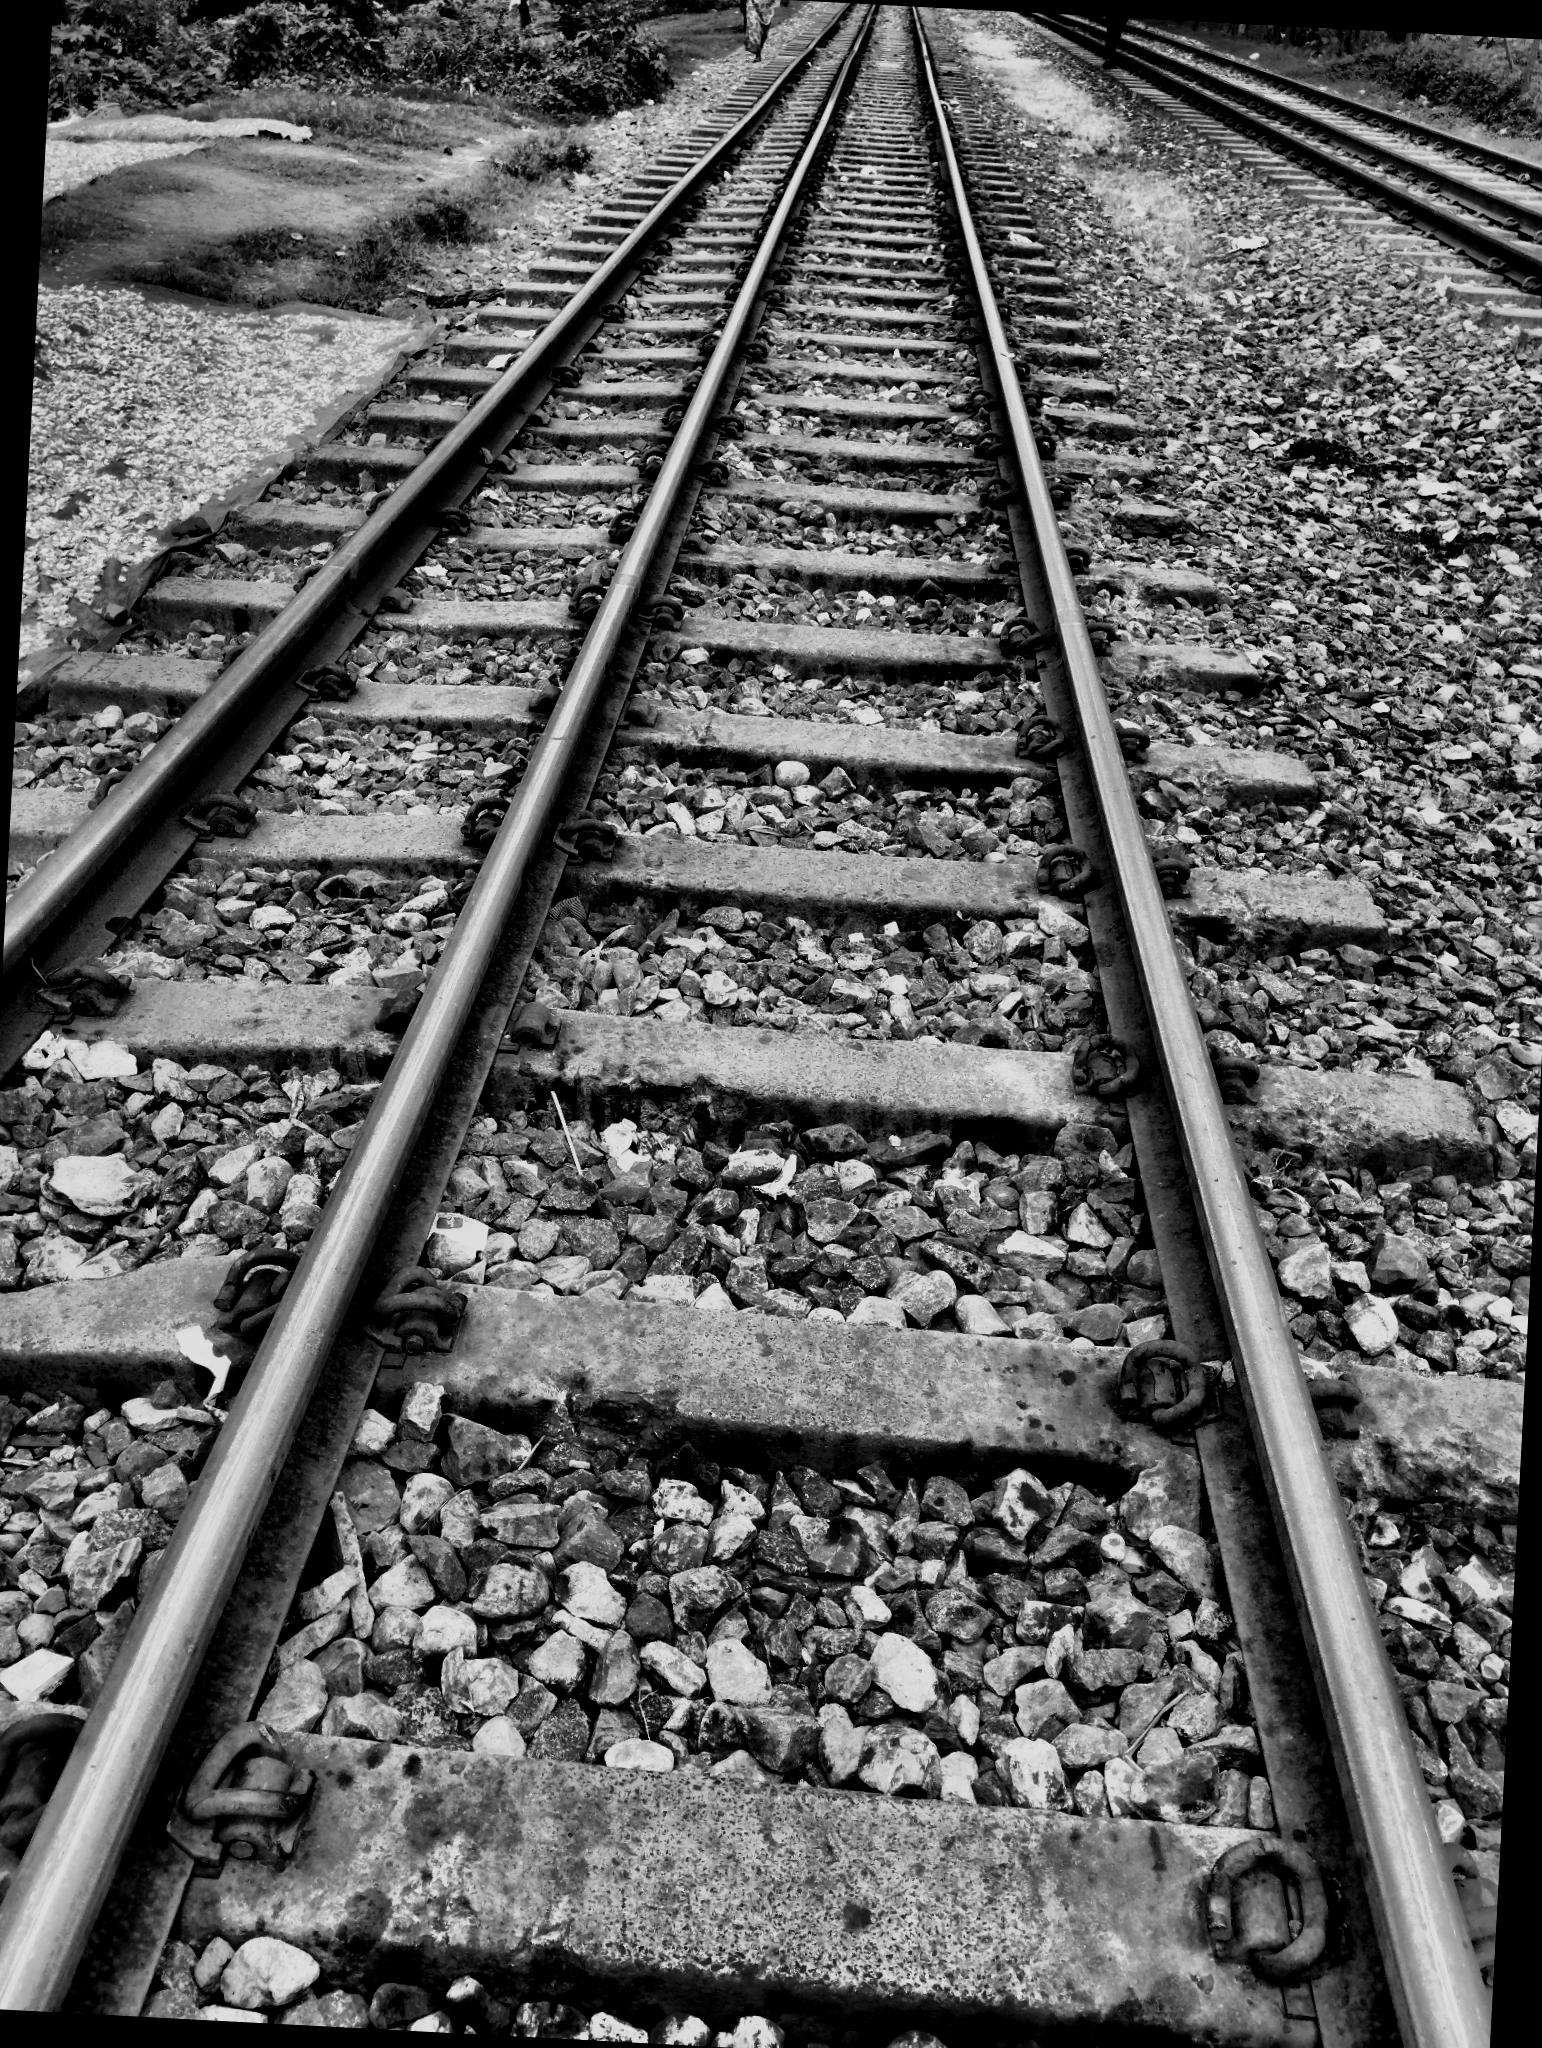Trash: (408, 272, 515, 316)
